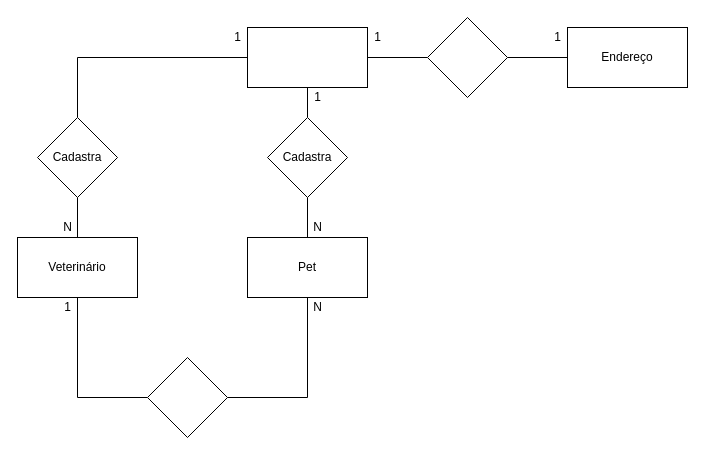
This 705x455 diagram has some shape labels left out. The centre of each missing label's shape, as x and y in pixels:
"Atende" belongs at pixel 187 397.
"Clinica" belongs at pixel 307 57.
"Tem" belongs at pixel 467 57.
